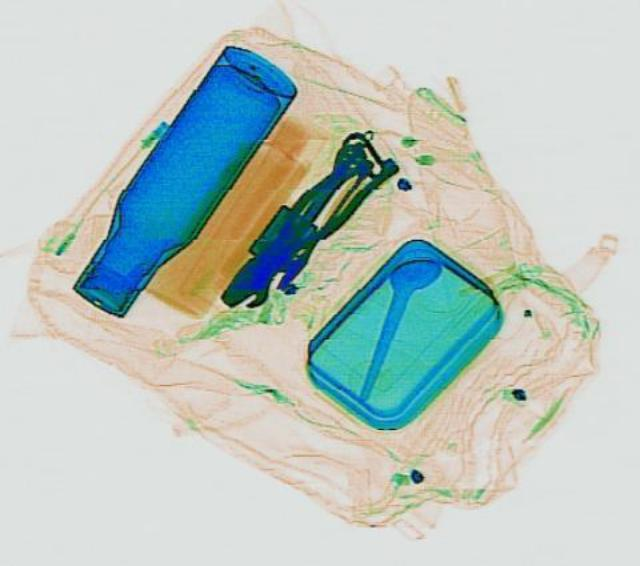Pliers: (218, 135, 400, 300)
Wrench: (216, 137, 377, 312)
